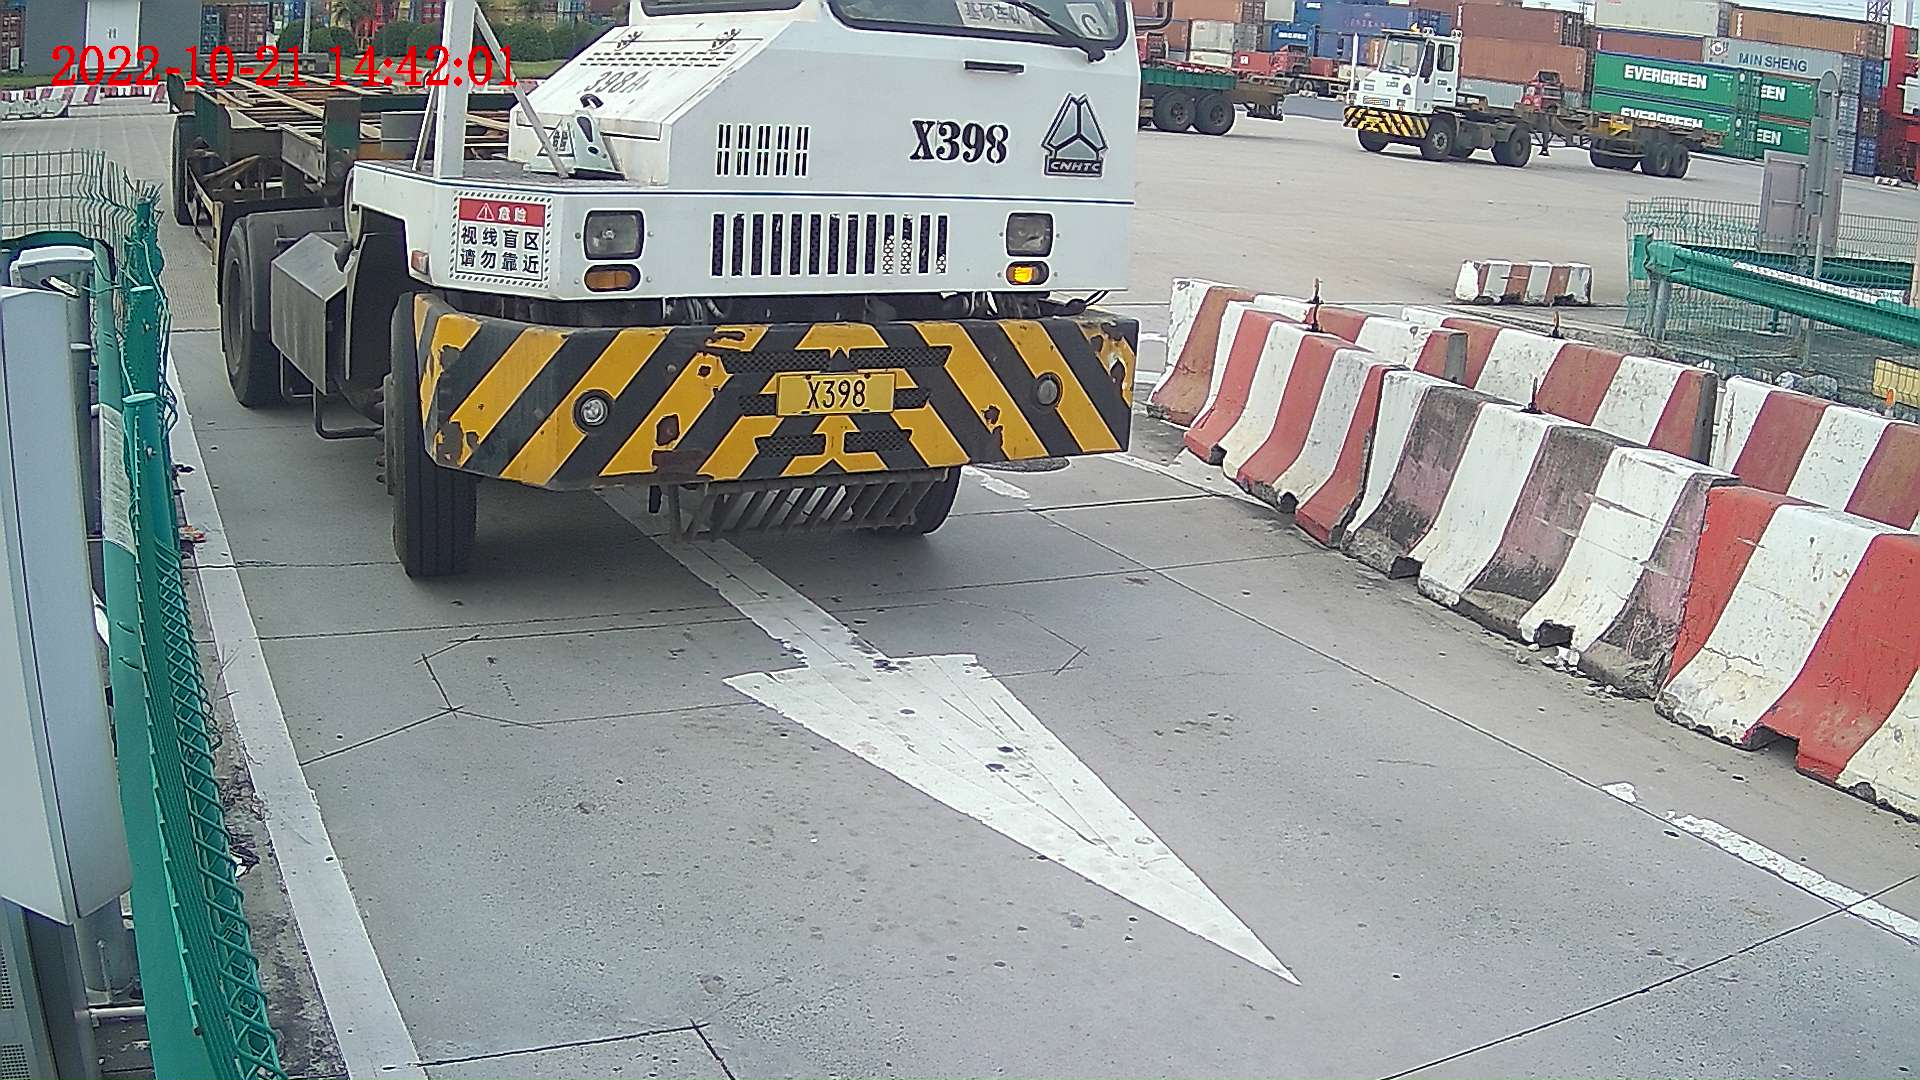head: (369, 1, 1142, 573)
plate: (779, 373, 897, 417)
